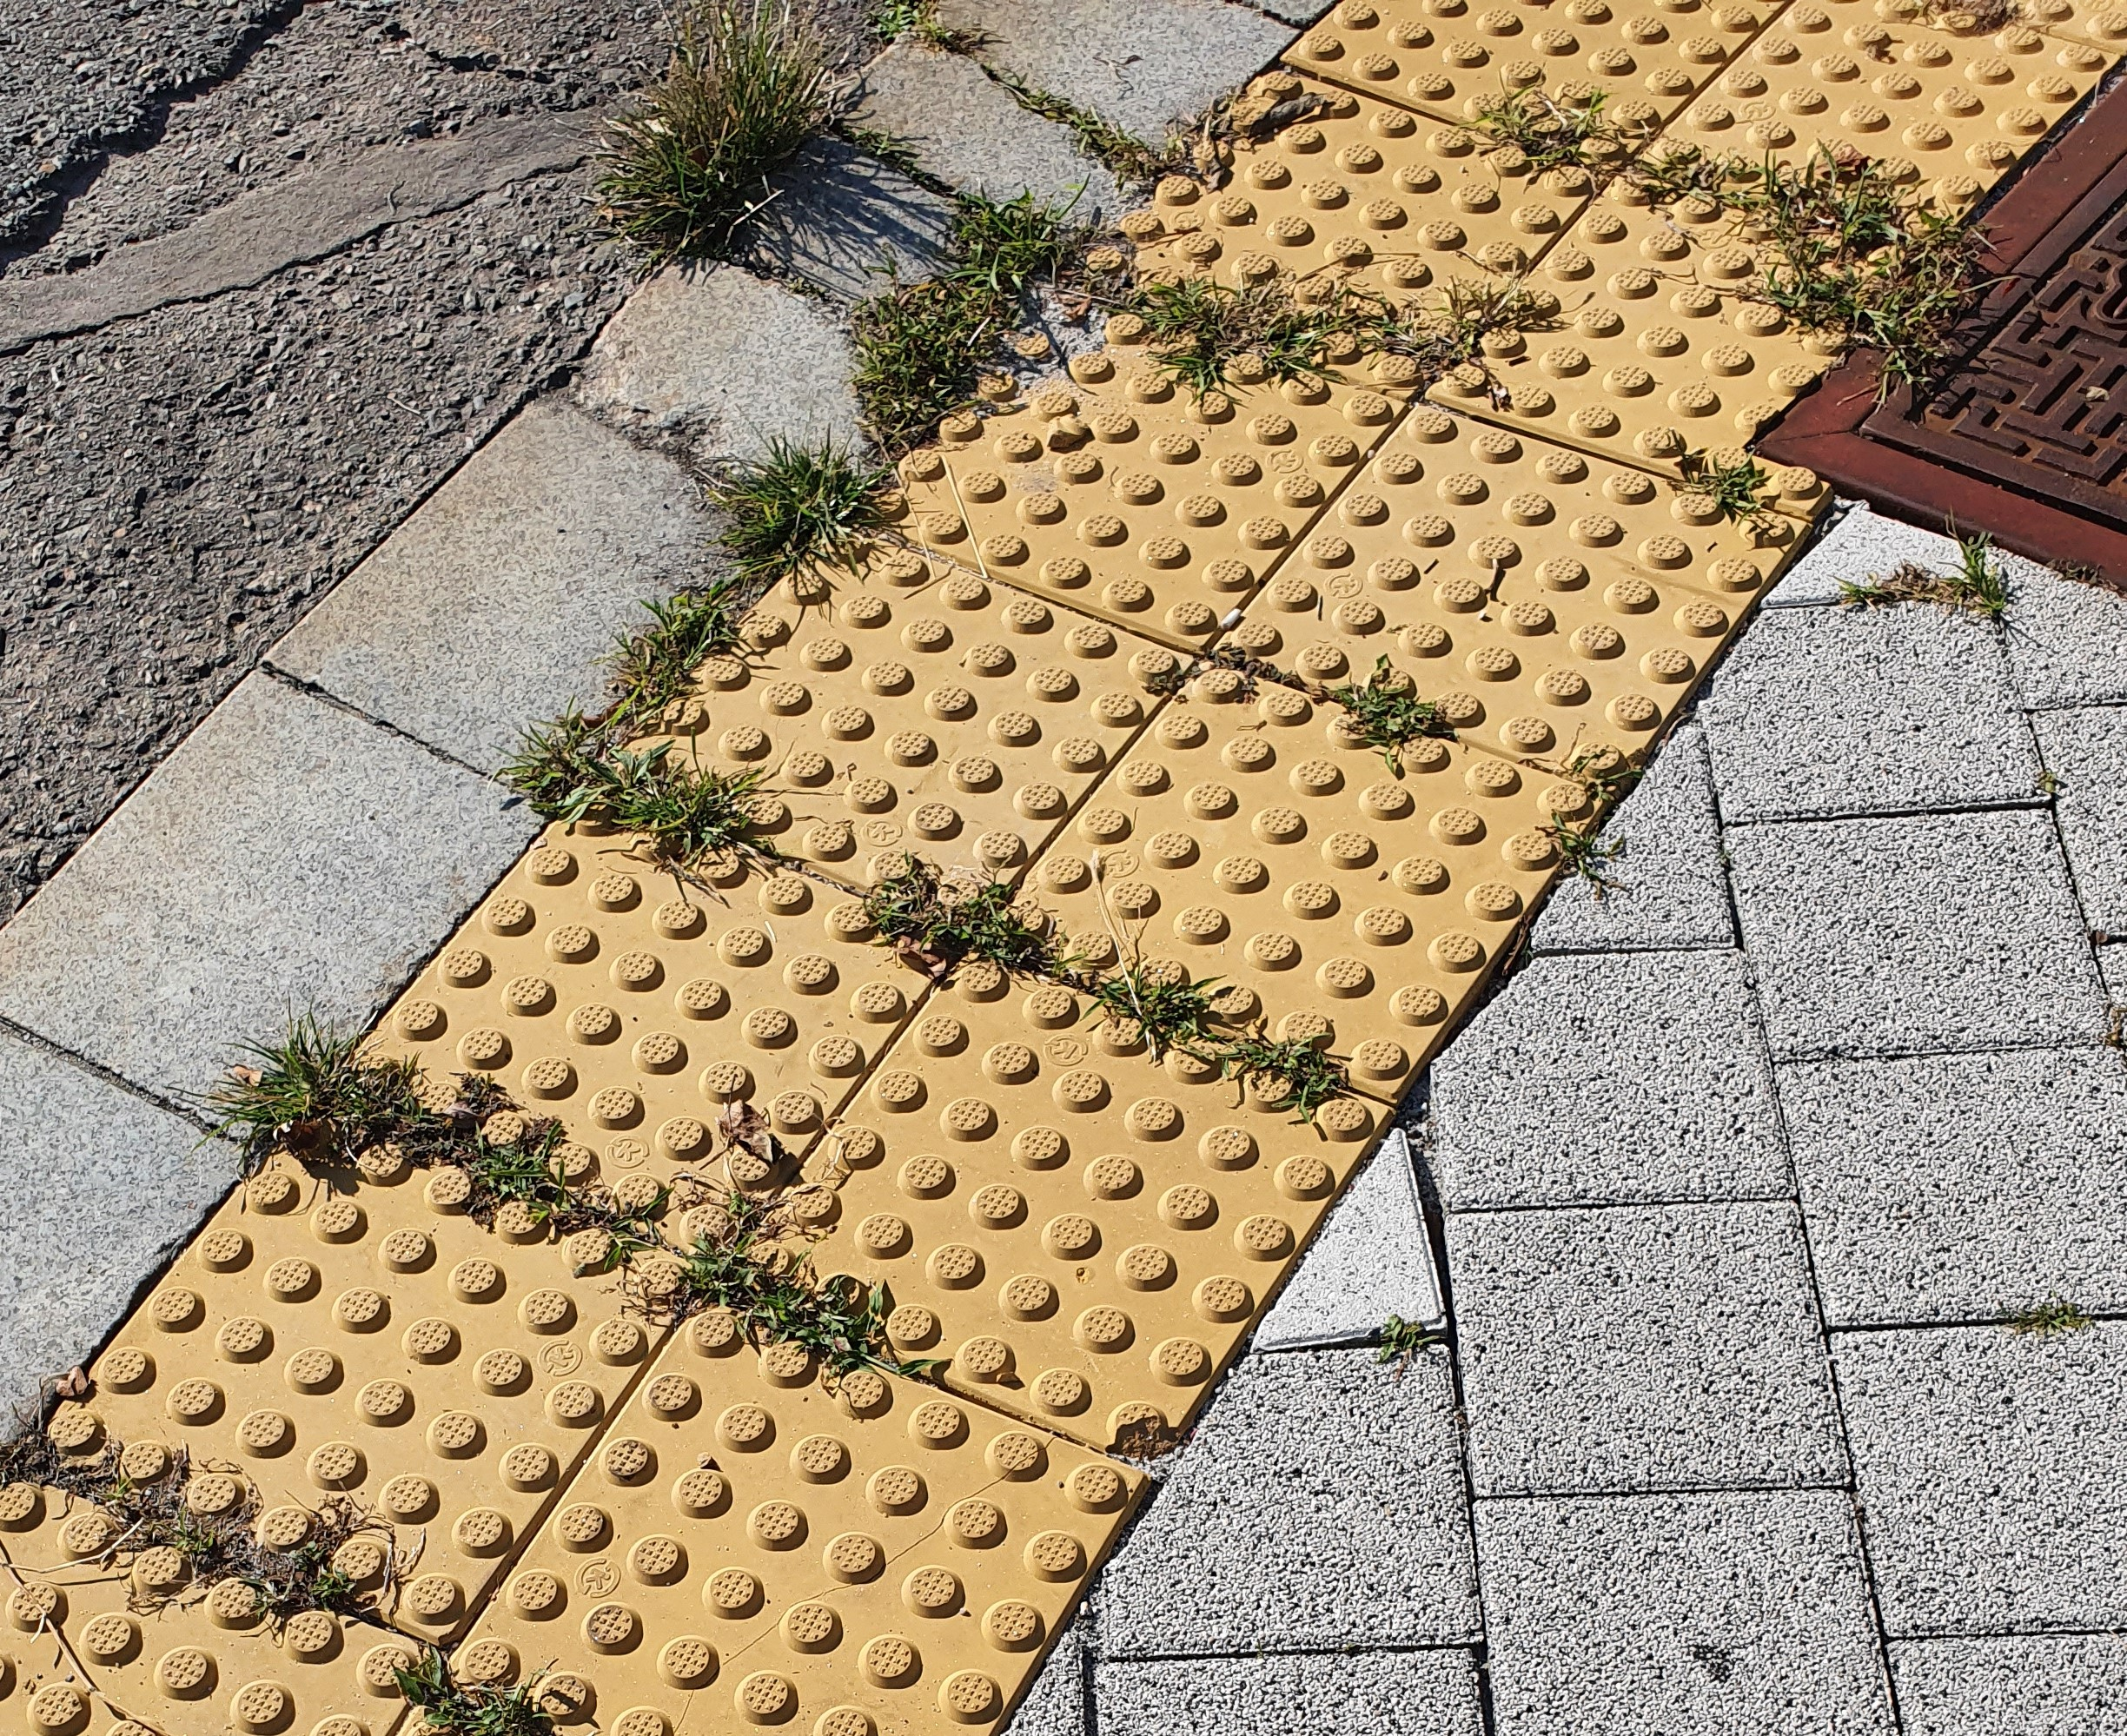warningBlock: (1069, 608, 1457, 1054), (136, 1211, 615, 1549), (555, 1365, 988, 1725), (878, 1001, 1260, 1356), (977, 311, 1385, 630), (781, 549, 1115, 895), (1532, 189, 1853, 542), (495, 853, 864, 1146), (1323, 449, 1632, 743), (1231, 90, 1525, 390), (1752, 21, 2005, 210), (1346, 11, 1754, 111)
